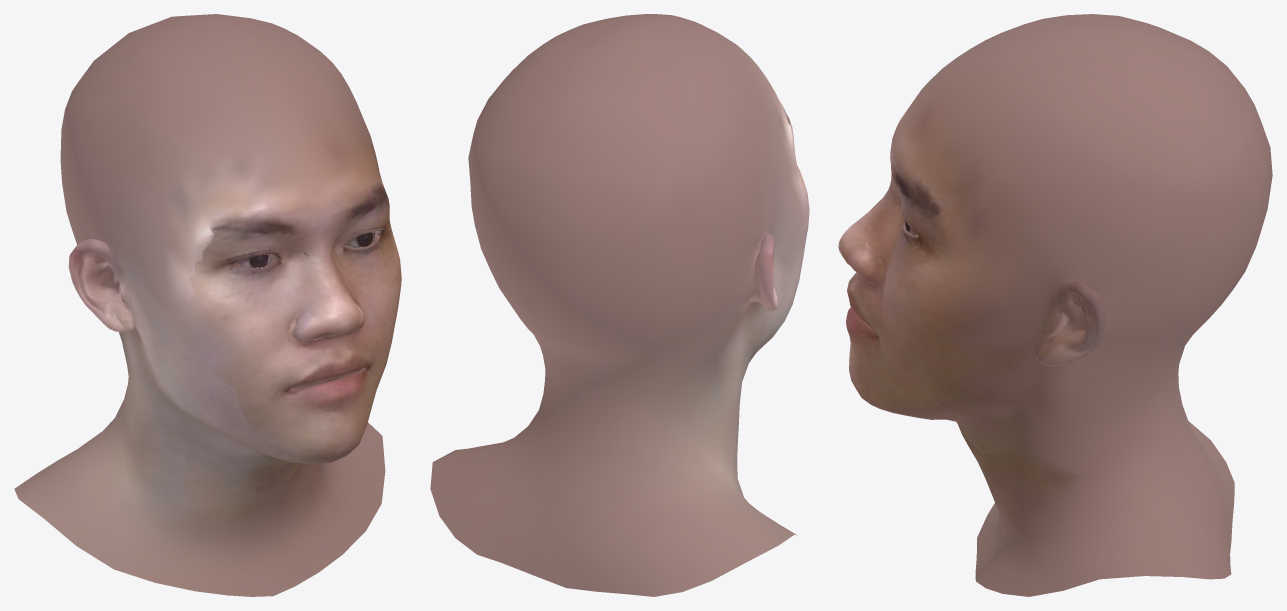
The model's file is source_reference.glb.
3 views of the same model, side by side, from view 1: azimuth 30°, elevation 25°; view 2: azimuth 150°, elevation 25°; view 3: azimuth 270°, elevation 25° (orthographic). The views are drawn at different scales.
Visible parts, largest first — view 1: Head; view 2: Head; view 3: Head.
Boxes of the visible parts, left/top/right/bottom form: Head: left=14, top=14, right=401, bottom=596; Head: left=430, top=14, right=809, bottom=596; Head: left=838, top=14, right=1272, bottom=596.
Size of the model in its own units: 0.015 by 0.022 by 0.016.
3 materials, 3 textured.
